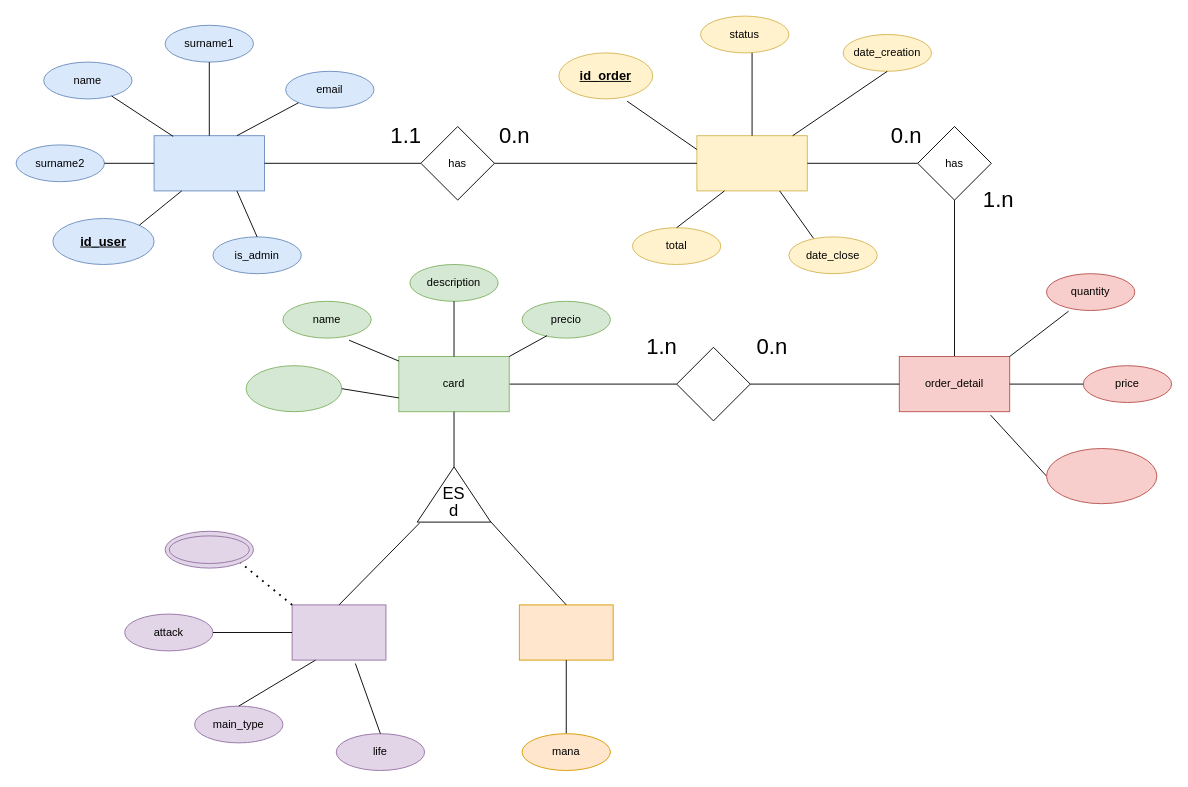
This 1188x787 diagram has some shape labels left out. Each missing label, with the centre of its shape:
contains: the point at 713,383
id_card: the point at 293,388
id_order_detail: the point at 1101,476
monster: the point at 338,632
order: the point at 751,163
secondary_type: the point at 208,549
spell: the point at 565,632
user: the point at 208,163
